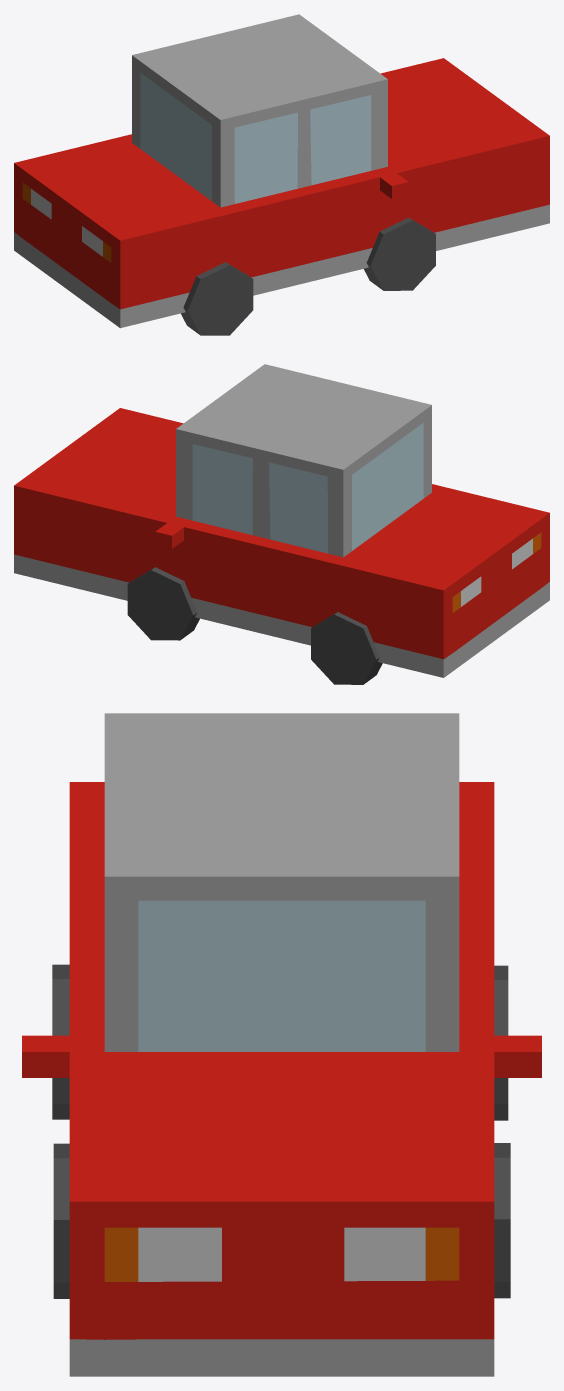
File: block_car_large.fbx
3 views of the same model, one above another, from view 1: azimuth 30°, elevation 25°; view 2: azimuth 150°, elevation 25°; view 3: azimuth 270°, elevation 25° (orthographic). The views are drawn at different scales.
Visible parts, largest first — view 1: car_maincube, rightbacktire, rightfronttire; view 2: car_maincube, leftfronttire, leftbacktire; view 3: car_maincube, leftfronttire, rightfronttire, rightbacktire, leftbacktire.
Part boxes in pixels (box(x1,y1,x2,y2)): car_maincube: box(14, 14, 549, 328); rightbacktire: box(181, 262, 253, 335); rightfronttire: box(364, 217, 435, 290); car_maincube: box(14, 364, 549, 677); leftfronttire: box(127, 567, 199, 640); leftbacktire: box(311, 612, 382, 684); car_maincube: box(22, 713, 541, 1376); leftfronttire: box(494, 1143, 510, 1298); rightfronttire: box(53, 1143, 69, 1298); rightbacktire: box(52, 964, 69, 1119); leftbacktire: box(494, 965, 508, 1120).
Size of the model in its own units: 5.14 by 2.34 by 2.69.
